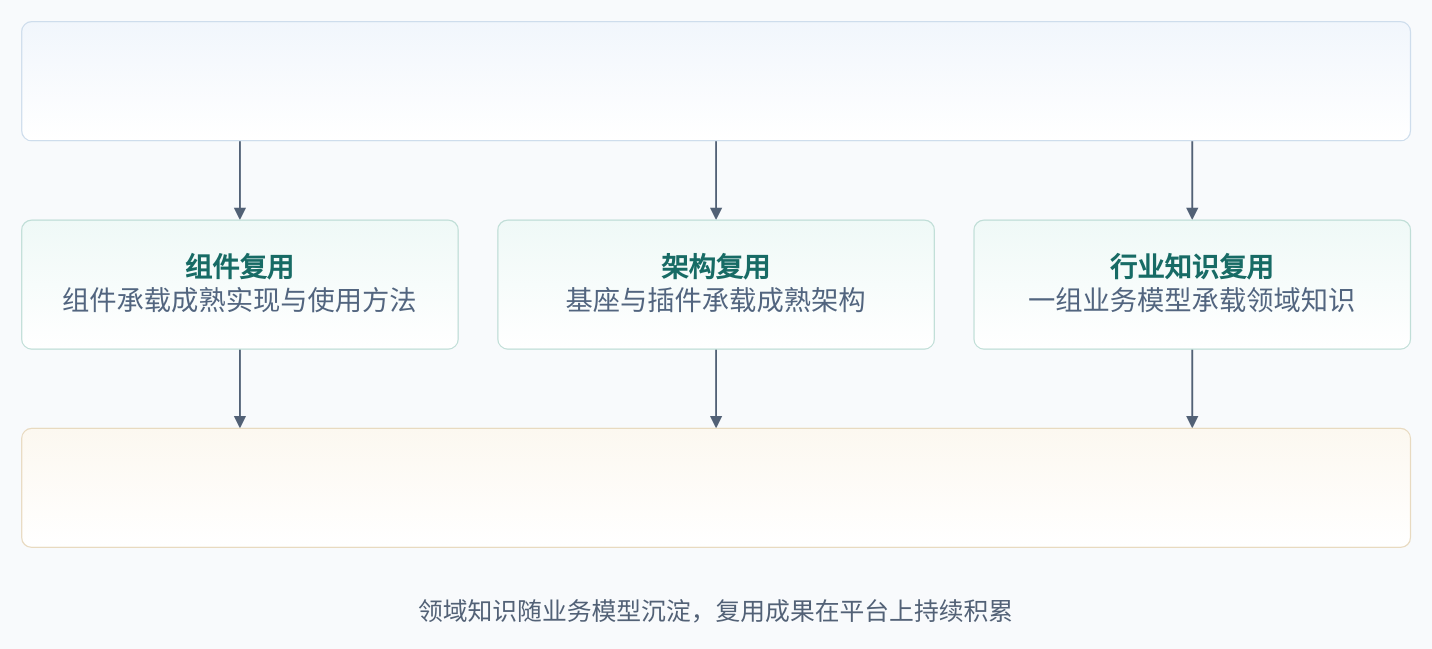
This 1432x649 diagram has some shape labels left out. Here are the shapes that lost their labels. From the top down, the box of each, then its label:
(20, 20, 1410, 141): 项目经验 在真实项目中得到验证的解决方法
(20, 427, 1410, 547): 潮汐栈平台 承载复用成果，供后续项目继承与组合
